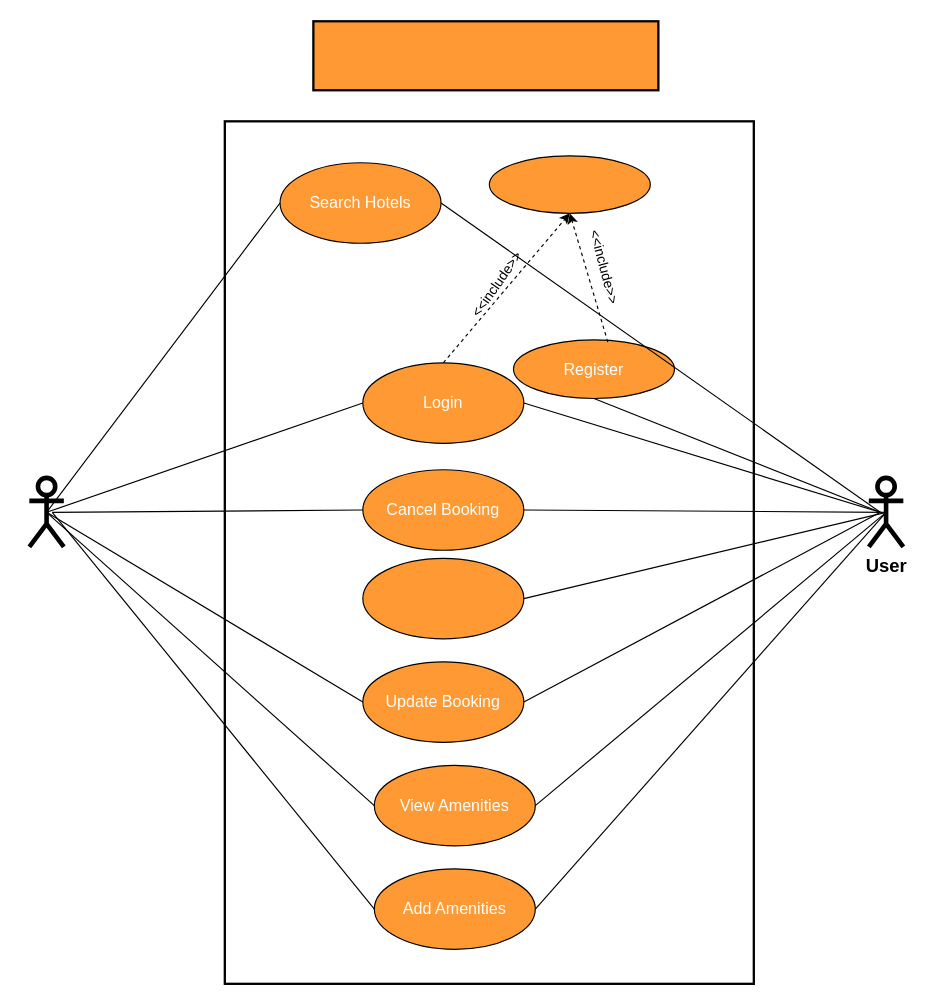
Some shapes in this 927 by 1004 pixel diagram are drawn without their labels. Each missing label, with the centre of its shape:
"Admin" belongs at [46,512].
"Hotel Management System" belongs at [485,55].
"UserValidation" belongs at [569,184].
"View Rewards" belongs at [443,598].
